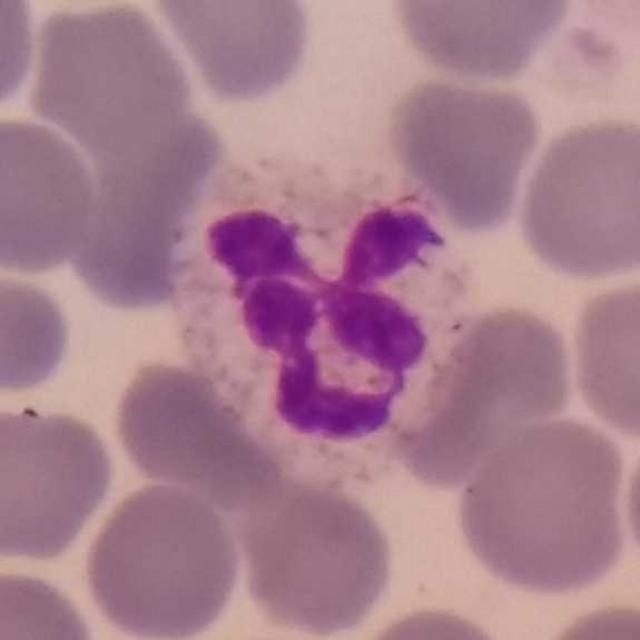Neutrophil: (162, 141, 481, 487)
RBC: (387, 298, 581, 490), (450, 412, 636, 600), (59, 103, 222, 306), (230, 475, 401, 639), (380, 66, 546, 232), (78, 477, 246, 640), (21, 0, 197, 150), (106, 356, 268, 501), (512, 111, 640, 284), (0, 398, 119, 566), (147, 0, 318, 107), (0, 111, 101, 278), (385, 0, 579, 86), (564, 273, 640, 443), (0, 260, 77, 403), (0, 562, 101, 640), (343, 602, 522, 640), (0, 0, 41, 121), (526, 597, 639, 640), (617, 415, 640, 586)
